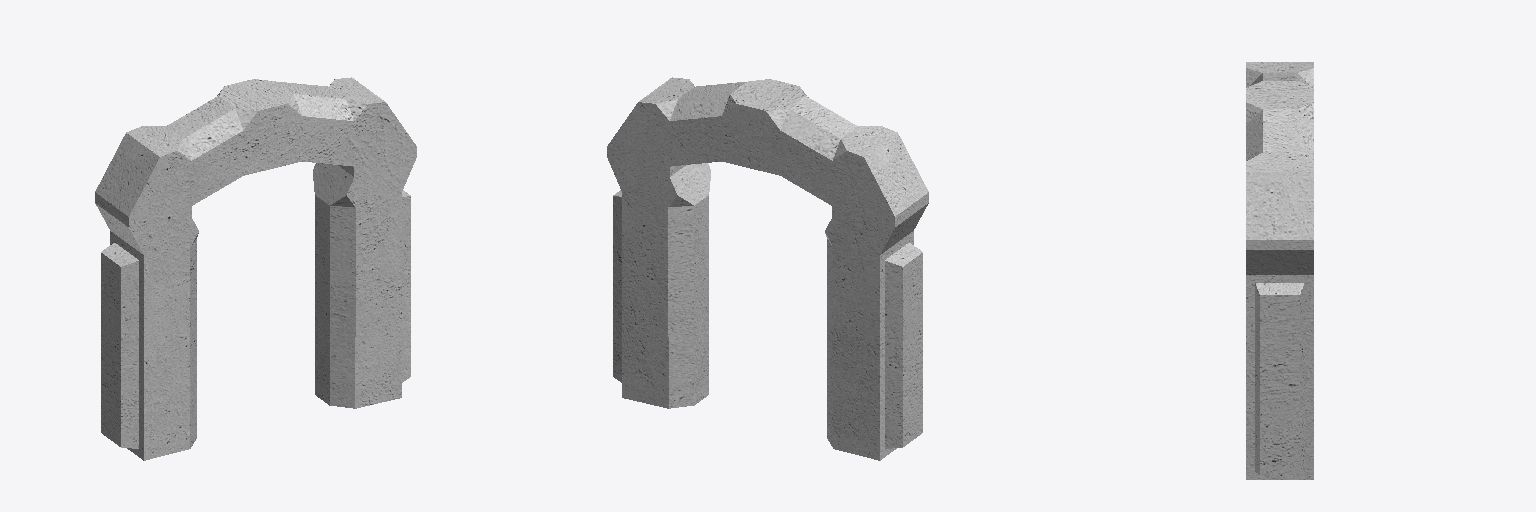
The picture shows the model from 3 angles: view 1: azimuth 30°, elevation 25°; view 2: azimuth 150°, elevation 25°; view 3: azimuth 270°, elevation 25°; orthographic projection.
Visible parts, largest first — view 1: Cube_Cube.001; view 2: Cube_Cube.001; view 3: Cube_Cube.001.
Part boxes in pixels (left/top/right/bottom): Cube_Cube.001: left=95, top=77, right=416, bottom=460; Cube_Cube.001: left=607, top=77, right=928, bottom=460; Cube_Cube.001: left=1246, top=62, right=1313, bottom=479.
Bounding box in the file's own units: 9.92 × 10.5 × 2.
Materials: 1 (1 with a texture image).